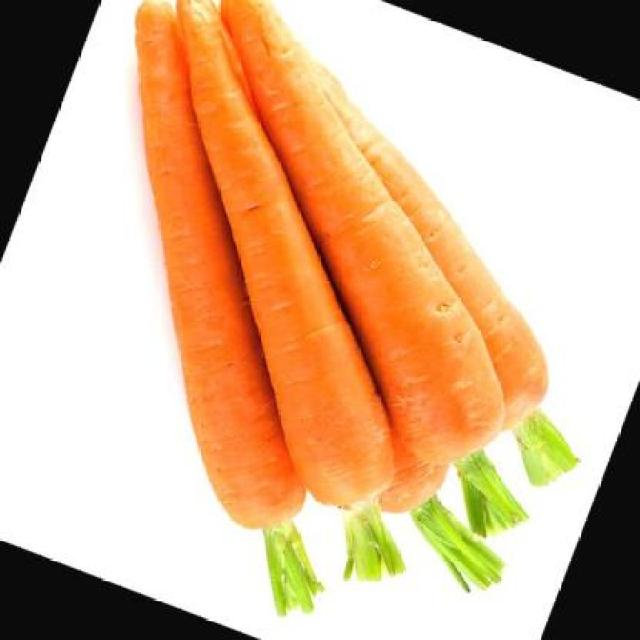carrot: (22, 0, 538, 529), (92, 0, 612, 482), (0, 0, 458, 546), (136, 0, 639, 442), (366, 428, 454, 526)
